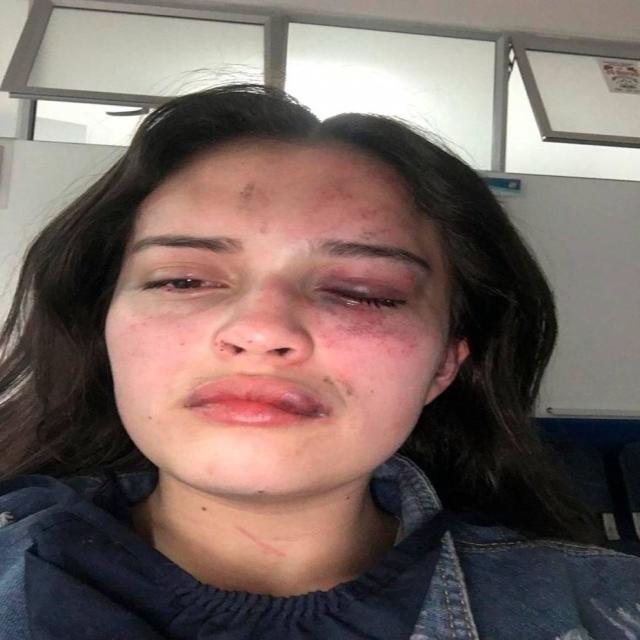INJURED PERSON: (31, 51, 623, 608)
